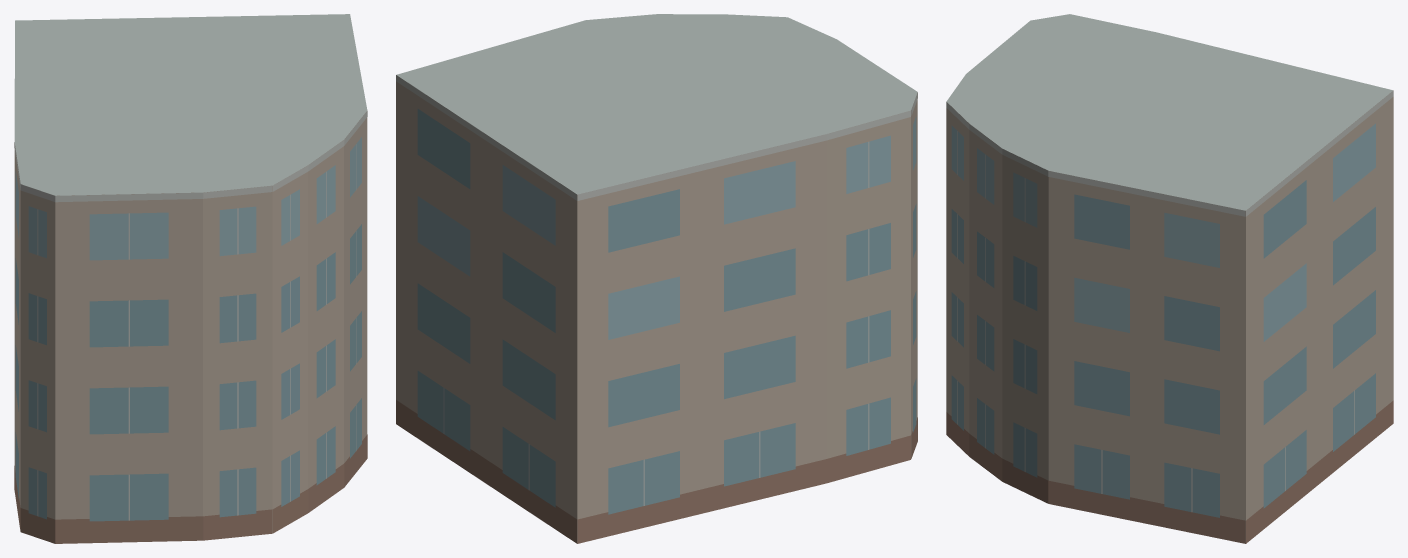
Rendered from survey-upis-33023442.glb.
3 views of the same model, side by side, from view 1: azimuth 30°, elevation 25°; view 2: azimuth 150°, elevation 25°; view 3: azimuth 270°, elevation 25° (orthographic). The views are drawn at different scales.
Visible parts, largest first — view 1: survey-upis-33023442.tmp; view 2: survey-upis-33023442.tmp; view 3: survey-upis-33023442.tmp.
Boxes of the visible parts, x1,y1,x2,y2 form: survey-upis-33023442.tmp: (14,14,367,543); survey-upis-33023442.tmp: (396,14,917,543); survey-upis-33023442.tmp: (946,14,1393,543).
Bounding box in the file's own units: 16.83 × 13.28 × 16.17.
